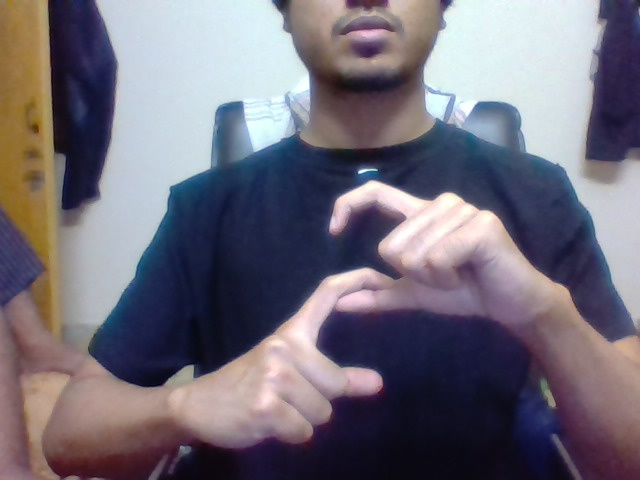S: (316, 178, 418, 397)
